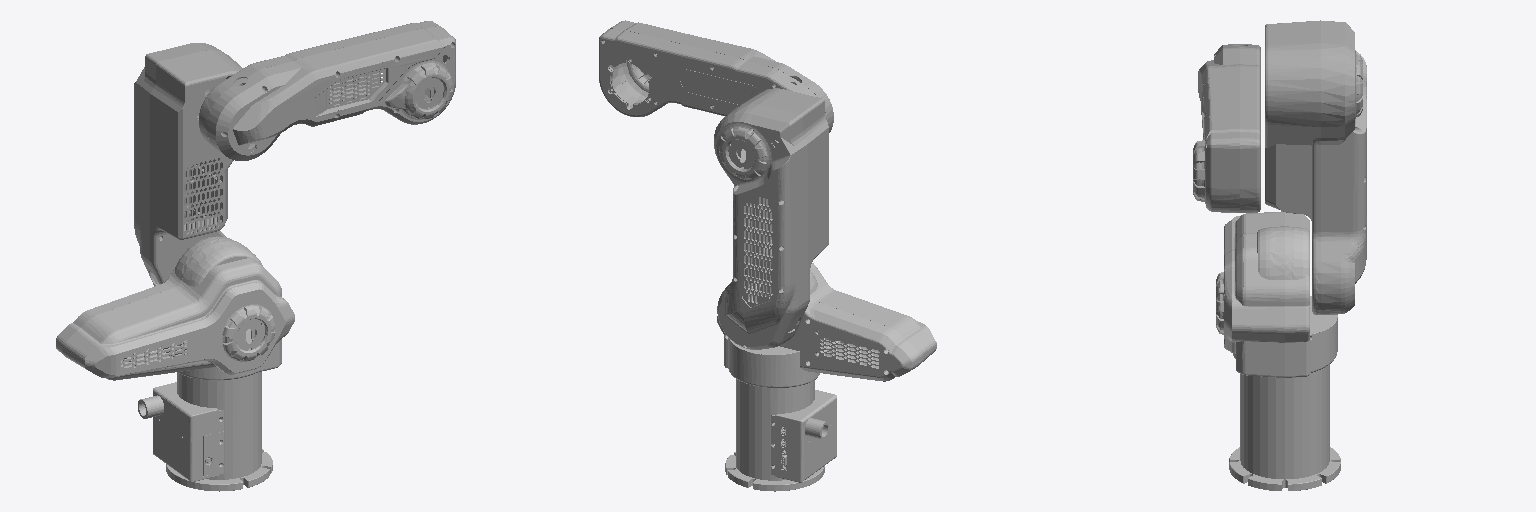
robot.urdf — mrx_t4_a00_new:
<?xml version="1.0" ?>
<!-- =================================================================================== -->
<!-- |    This document was autogenerated by xacro from mrx_t4_a00_new_gazebo.xacro    | -->
<!-- |    EDITING THIS FILE BY HAND IS NOT RECOMMENDED                                 | -->
<!-- =================================================================================== -->
<robot name="mrx_t4_a00_new" xmlns:xacro="http://www.ros.org/wiki/xacro">
  <!-- ros_control plugin -->
  <gazebo>
    <plugin filename="libgazebo_ros_control.so" name="gazebo_ros_control">
      <robotNamespace>/arm</robotNamespace>
      <robotSimType>gazebo_ros_control/DefaultRobotHWSim</robotSimType>
    </plugin>
  </gazebo>
  <!-- Link1 -->
  <gazebo reference="base">
    <material>Gazebo/Grey</material>
  </gazebo>
  <!-- Link2 -->
  <gazebo reference="armA">
    <material>Gazebo/Orange</material>
  </gazebo>
  <!-- Link3 -->
  <gazebo reference="armB">
    <material>Gazebo/Orange</material>
  </gazebo>
  <!-- Link4 -->
  <gazebo reference="armC">
    <material>Gazebo/Orange</material>
  </gazebo>
  <!-- Link5 -->
  <gazebo reference="armD">
    <material>Gazebo/Red</material>
  </gazebo>
  <link name="world">
    <!--
    <visual>
      <origin xyz=" 0 0 -0.01"  rpy="0 0 0"/>
      <geometry>
        <box size="1 1 0.02" />
      </geometry>
      <material name="Brown" />
    </visual>
    <collision>
      <origin xyz=" 0 0 -0.01"  rpy="0 0 0"/>
      <geometry>
        <box size="1 1 0.02" />
      </geometry>
    </collision>
    <inertial>
      <origin xyz="0 0 0" rpy="0 0 0" />
      <inertia ixx="1.0" ixy="0.0" ixz="0.0" iyy="0.5" iyz="0.0" izz="1.0" />
      <mass value="500" />
    </inertial>
    -->
  </link>
  <joint name="bottom_joint" type="fixed">
    <origin rpy="0 0 0" xyz="0 0 0"/>
    <parent link="world"/>
    <child link="base"/>
  </joint>
  <link name="base">
    <inertial>
      <origin rpy="0 0 0" xyz="-0.000144936182500289 -0.00820760069399896 0.0989499405919245"/>
      <mass value="2.18102317082151"/>
      <inertia ixx="0.0113453778745561" ixy="4.63289918071108E-05" ixz="-4.32363621106919E-06" iyy="0.0113991095551259" iyz="0.000506283101670542" izz="0.00568476675971968"/>
    </inertial>
    <visual>
      <origin rpy="0 0 0" xyz="0 0 0"/>
      <geometry>
        <mesh filename="package://mrx_t4_a00_new/meshes/base.STL"/>
      </geometry>
      <material name="">
        <color rgba="0.752941176470588 0.752941176470588 0.752941176470588 1"/>
      </material>
    </visual>
    <collision>
      <origin rpy="0 0 0" xyz="0 0 0"/>
      <geometry>
        <mesh filename="package://mrx_t4_a00_new/meshes/base.STL"/>
      </geometry>
    </collision>
  </link>
  <joint name="base_to_armA" type="revolute">
    <origin rpy="-1.5708 0 0" xyz="0 0 0.144"/>
    <parent link="base"/>
    <child link="armA"/>
    <axis xyz="0 -1 0"/>
    <limit effort="300" lower="-2.75762022" upper="2.75762022" velocity="1"/>
  </joint>
  <link name="armA">
    <inertial>
      <origin rpy="0 0 0" xyz="-0.058992099688719 -0.0186016047995519 0.0758305002441301"/>
      <mass value="0.303896581928651"/>
      <inertia ixx="0.001050564841006" ixy="-1.55163555383218E-05" ixz="-6.26787525019475E-05" iyy="0.00302129432156541" iyz="3.82579698525422E-05" izz="0.00299355685876571"/>
    </inertial>
    <visual>
      <origin rpy="0 0 0" xyz="0 0 0"/>
      <geometry>
        <mesh filename="package://mrx_t4_a00_new/meshes/armA.STL"/>
      </geometry>
      <material name="">
        <color rgba="0.752941176470588 0.752941176470588 0.752941176470588 1"/>
      </material>
    </visual>
    <collision>
      <origin rpy="0 0 0" xyz="0 0 0"/>
      <geometry>
        <mesh filename="package://mrx_t4_a00_new/meshes/armA.STL"/>
      </geometry>
    </collision>
  </link>
  <joint name="armA_to_armB" type="revolute">
    <origin rpy="0 -1.5708 0" xyz="0 -0.113 0.03375"/>
    <parent link="armA"/>
    <child link="armB"/>
    <axis xyz="-1 0 0"/>
    <limit effort="300" lower="-1.51843645" upper="0.48869219" velocity="1"/>
  </joint>
  <link name="armB">
    <inertial>
      <origin rpy="0 0 0" xyz="0.013013 0.020769 0.15495"/>
      <mass value="0.33565"/>
      <inertia ixx="0.0042212" ixy="2.1585E-05" ixz="0.00030616" iyy="0.0041857" iyz="-1.0585E-05" izz="0.0011326"/>
    </inertial>
    <visual>
      <origin rpy="0 0 0" xyz="0 0 0"/>
      <geometry>
        <mesh filename="package://mrx_t4_a00_new/meshes/armB.STL"/>
      </geometry>
      <material name="">
        <color rgba="0.69804 0.69804 0.69804 1"/>
      </material>
    </visual>
    <collision>
      <origin rpy="0 0 0" xyz="0 0 0"/>
      <geometry>
        <mesh filename="package://mrx_t4_a00_new/meshes/armB.STL"/>
      </geometry>
    </collision>
  </link>
  <joint name="armB_to_armC" type="revolute">
    <origin rpy="0 1.5708 0" xyz="-0.06375 -0.255 0"/>
    <parent link="armB"/>
    <child link="armC"/>
    <axis xyz="0 0 -1"/>
    <limit effort="300" lower="-1.01229096" upper="3.10668606" velocity="1"/>
  </joint>
  <link name="armC">
    <inertial>
      <origin rpy="0 0 0" xyz="0.12619 -0.01285 0.015821"/>
      <mass value="0.62172"/>
      <inertia ixx="0.00074736" ixy="6.7514E-06" ixz="-0.000196" iyy="0.0072631" iyz="-1.2208E-05" izz="0.0066601"/>
    </inertial>
    <visual>
      <origin rpy="0 0 0" xyz="0 0 0"/>
      <geometry>
        <mesh filename="package://mrx_t4_a00_new/meshes/armC.STL"/>
      </geometry>
      <material name="">
        <color rgba="0.69804 0.69804 0.69804 1"/>
      </material>
    </visual>
    <collision>
      <origin rpy="0 0 0" xyz="0 0 0"/>
      <geometry>
        <mesh filename="package://mrx_t4_a00_new/meshes/armC.STL"/>
      </geometry>
    </collision>
  </link>
  <joint name="armC_to_armD" type="continuous">
    <origin rpy="1.5708 0 3.14159" xyz="0.25 0 0.03"/>
    <parent link="armC"/>
    <child link="armD"/>
    <axis xyz="0 -1 0"/>
  </joint>
  <link name="armD">
    <inertial>
      <origin rpy="0 0 0" xyz="7.533E-05 0.0029979 0.086356"/>
      <mass value="0.30492"/>
      <inertia ixx="0.00080442" ixy="2.1974E-06" ixz="-3.2773E-07" iyy="0.00087792" iyz="3.4916E-05" izz="0.00023134"/>
    </inertial>
    <visual>
      <origin rpy="0 0 0" xyz="0 0 0"/>
      <geometry>
        <mesh filename="package://mrx_t4_a00_new/meshes/armD.STL"/>
      </geometry>
      <material name="">
        <color rgba="0.62745 0.41961 0.18824 1"/>
      </material>
    </visual>
    <collision>
      <origin rpy="0 0 0" xyz="0 0 0"/>
      <geometry>
        <mesh filename="package://mrx_t4_a00_new/meshes/armD.STL"/>
      </geometry>
    </collision>
  </link>
  <joint name="armD_to_vthand" type="fixed">
    <origin rpy="1.5708 -1.5708 0" xyz="0 0 0.15"/>
    <parent link="armD"/>
    <child link="vt_hand"/>
  </joint>
  <link name="vt_hand"/>
  <transmission name="trans1">
    <type>transmission_interface/SimpleTransmission</type>
    <joint name="base_to_armA">
      <hardwareInterface>hardware_interface/PositionJointInterface</hardwareInterface>
    </joint>
    <actuator name="motor1">
      <hardwareInterface>hardware_interface/PositionJointInterface</hardwareInterface>
      <mechanicalReduction>1</mechanicalReduction>
    </actuator>
  </transmission>
  <transmission name="trans2">
    <type>transmission_interface/SimpleTransmission</type>
    <joint name="armA_to_armB">
      <hardwareInterface>hardware_interface/PositionJointInterface</hardwareInterface>
    </joint>
    <actuator name="motor2">
      <hardwareInterface>hardware_interface/PositionJointInterface</hardwareInterface>
      <mechanicalReduction>1</mechanicalReduction>
    </actuator>
  </transmission>
  <transmission name="trans3">
    <type>transmission_interface/SimpleTransmission</type>
    <joint name="armB_to_armC">
      <hardwareInterface>hardware_interface/PositionJointInterface</hardwareInterface>
    </joint>
    <actuator name="motor3">
      <hardwareInterface>hardware_interface/PositionJointInterface</hardwareInterface>
      <mechanicalReduction>1</mechanicalReduction>
    </actuator>
  </transmission>
  <transmission name="trans4">
    <type>transmission_interface/SimpleTransmission</type>
    <joint name="armC_to_armD">
      <hardwareInterface>hardware_interface/PositionJointInterface</hardwareInterface>
    </joint>
    <actuator name="motor4">
      <hardwareInterface>hardware_interface/PositionJointInterface</hardwareInterface>
      <mechanicalReduction>1</mechanicalReduction>
    </actuator>
  </transmission>
</robot>

--- Render facts (derived) ---
Views: 3 orthographic renders of the robot side by side, from view 1: azimuth 30°, elevation 25°; view 2: azimuth 150°, elevation 25°; view 3: azimuth 270°, elevation 25°.
Robot: mrx_t4_a00_new — 7 links, 6 joints (3 revolute, 1 continuous, 2 fixed); root link world; default pose: every joint at zero.
Visible links, largest first — view 1: armA, armC, armB, base; view 2: armB, armC, armA, base; view 3: armB, armA, base, armC.
Link boxes in pixels (box(x1,y1,x2,y2)): armA: box(56, 236, 294, 380); armC: box(199, 21, 455, 160); armB: box(134, 43, 243, 286); base: box(138, 329, 272, 491); armB: box(714, 88, 828, 349); armC: box(599, 20, 833, 146); armA: box(717, 263, 936, 387); base: box(725, 379, 836, 491); armB: box(1265, 20, 1366, 314); armA: box(1216, 211, 1337, 377); base: box(1229, 364, 1340, 490); armC: box(1193, 44, 1260, 212).
Bounding box of the posed robot: 0.5345 × 0.2133 × 0.5867 m (x, y, z).
4 mesh visuals loaded from 5 distinct referenced files (4 binary STL); not drawn: 1 (reference not matched to a file when rendering).
